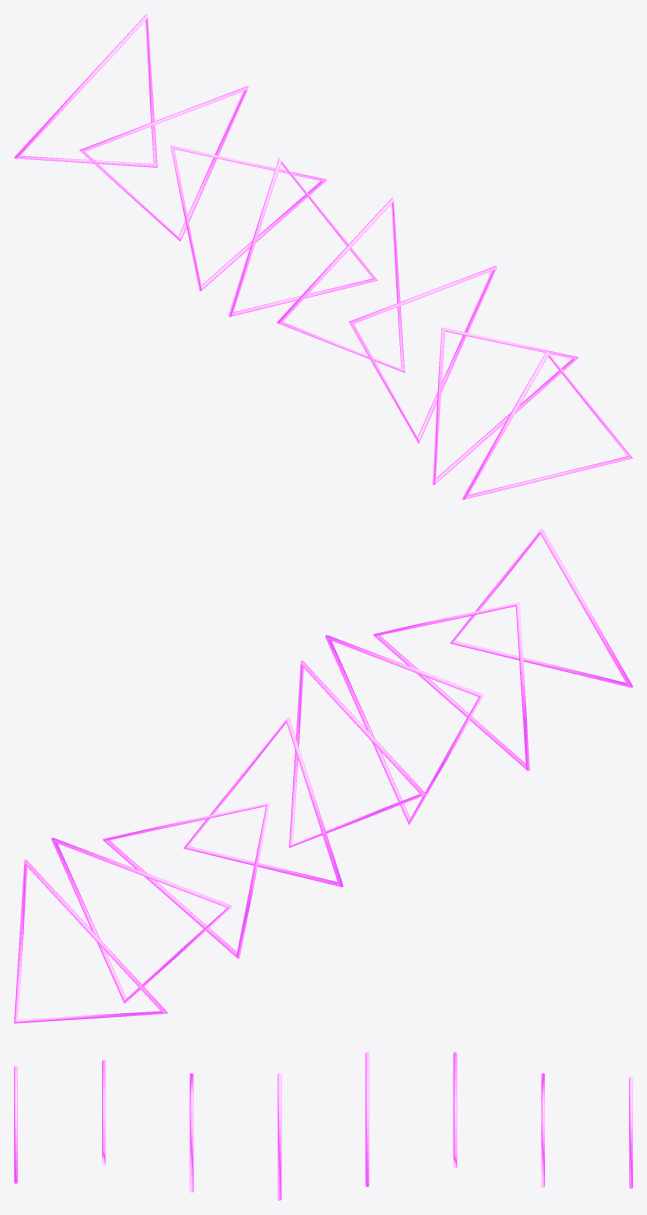
File: Triangles1.glb
3 views of the same model, one above another, from view 1: azimuth 30°, elevation 25°; view 2: azimuth 150°, elevation 25°; view 3: azimuth 270°, elevation 25° (orthographic). The views are drawn at different scales.
Parts seen in each view (by area): view 1: Triangles.002; view 2: Triangles.002; view 3: Triangles.002.
Boxes of the visible parts, x1,y1,x2,y2 form: Triangles.002: [14, 14, 632, 499]; Triangles.002: [14, 528, 632, 1023]; Triangles.002: [14, 1052, 632, 1200].
Bounding box in the file's own units: 20.7 × 20.83 × 85.48.
